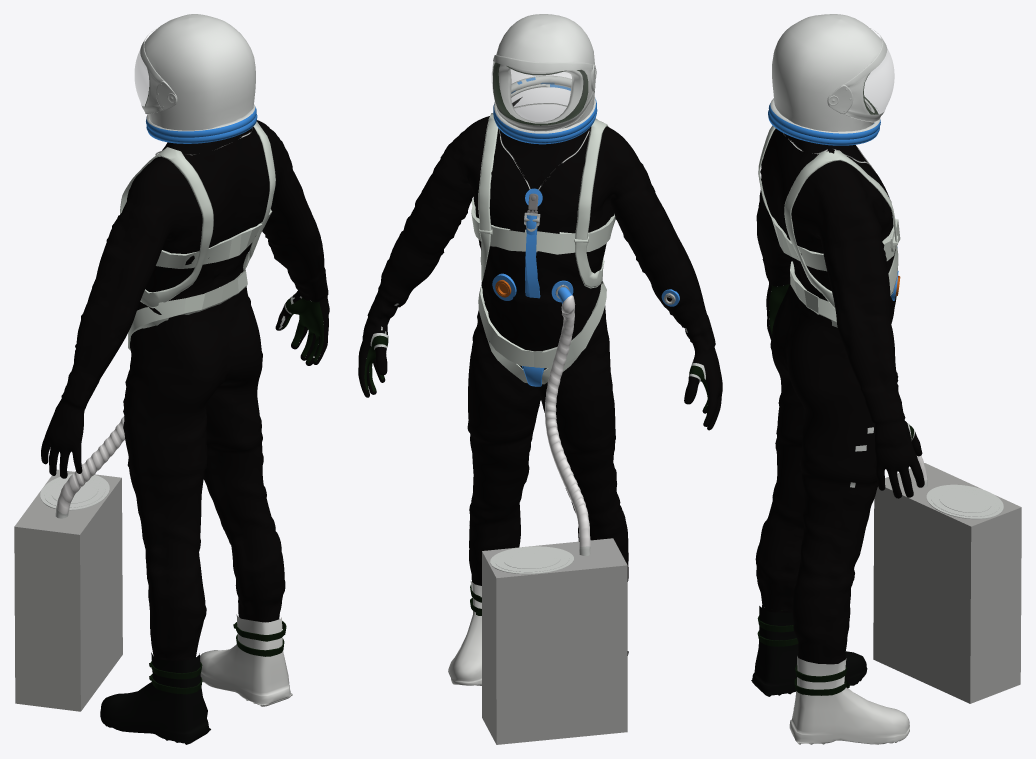
File: gemini.glb
The picture shows the model from 3 angles, left to right: view 1: azimuth 30°, elevation 25°; view 2: azimuth 150°, elevation 25°; view 3: azimuth 270°, elevation 25°; orthographic projection. The views are drawn at different scales.
Visible parts, largest first — view 1: GeminiSuit:polySurface1; view 2: GeminiSuit:polySurface1; view 3: GeminiSuit:polySurface1.
Part boxes in pixels (<box>): GeminiSuit:polySurface1: <box>14,14,329,744</box>; GeminiSuit:polySurface1: <box>358,14,722,744</box>; GeminiSuit:polySurface1: <box>751,14,1021,744</box>.
Bounding box in the file's own units: 0.9952 × 2 × 0.7095.
Materials: 6 (6 with a texture image).
